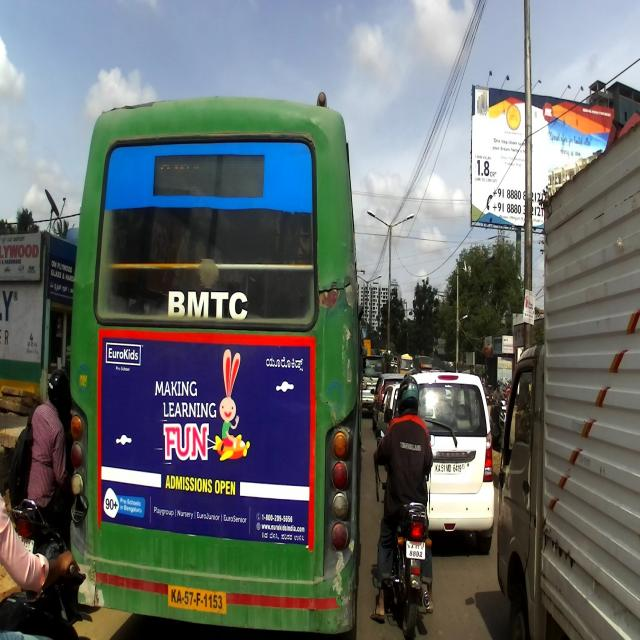Car_Maruti-Suzuki: (397, 366, 495, 556)
bus: (72, 88, 370, 639)
motorcycle_Hero: (371, 428, 437, 636), (6, 500, 77, 576)
motorcycle_Honda: (0, 491, 91, 638)
truck: (492, 112, 640, 639)
